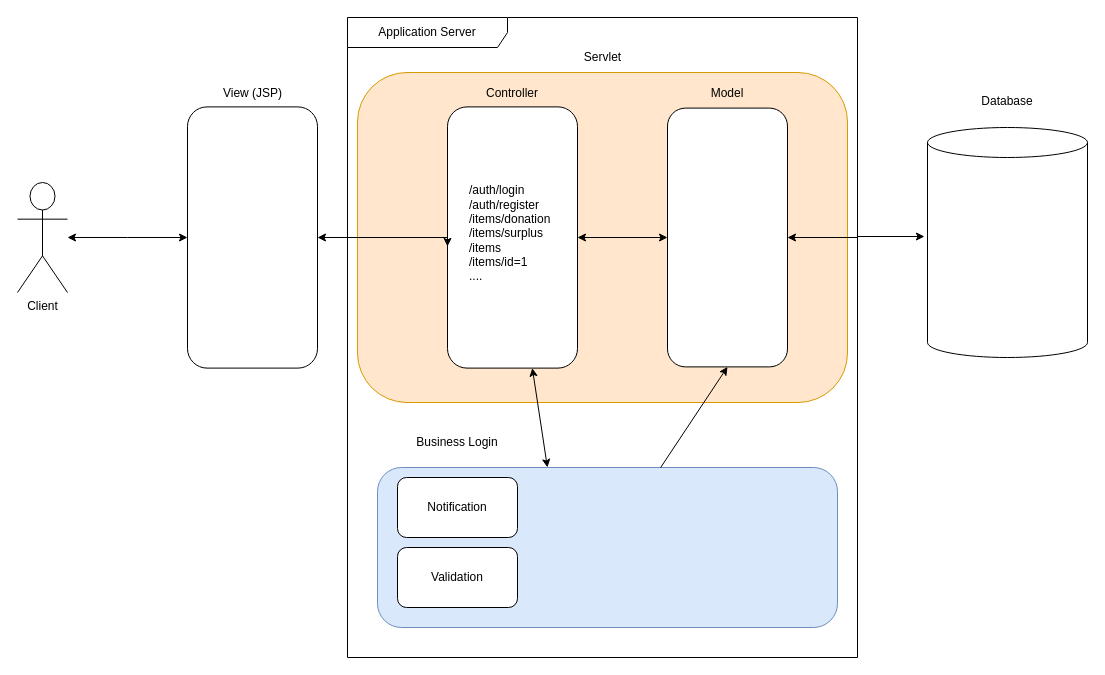
Image size: 1105x675. Some labels were removed from this diagram. The shapes that lost their labels are listed below. From the top down, each one's box as (x1, y1, x2, y2) in pixels, then its label:
(186, 106, 318, 368): index.jsp register.jsp login.jsp ...
(666, 107, 788, 367): findAll() getDon
